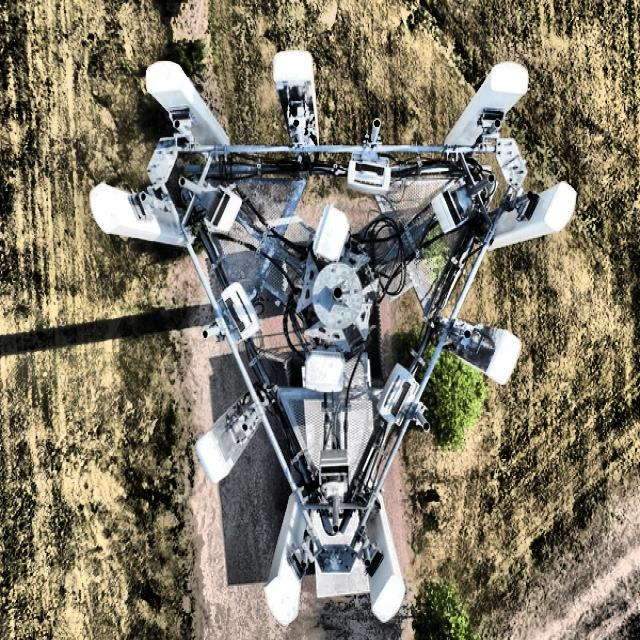antenna: (193, 158, 573, 623), (35, 73, 118, 287), (444, 62, 528, 145), (146, 61, 228, 145), (489, 181, 576, 249), (195, 393, 260, 482), (273, 50, 318, 146), (198, 196, 242, 231), (225, 251, 261, 280)
